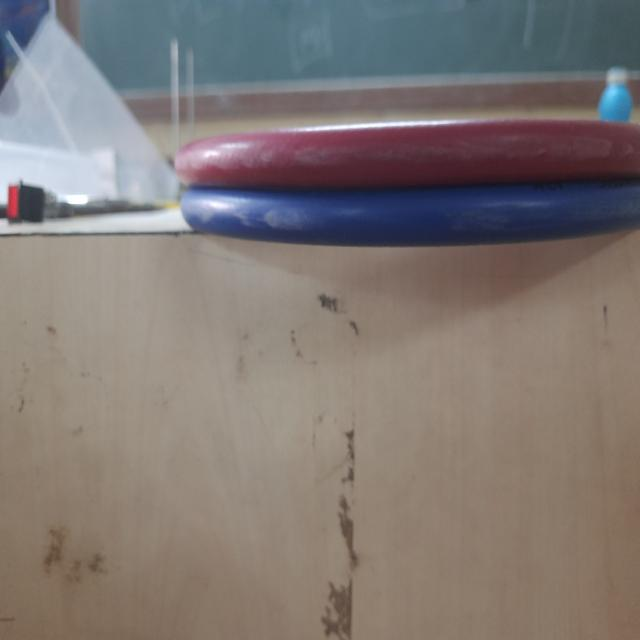daire: (181, 121, 640, 188), (193, 191, 640, 244)
